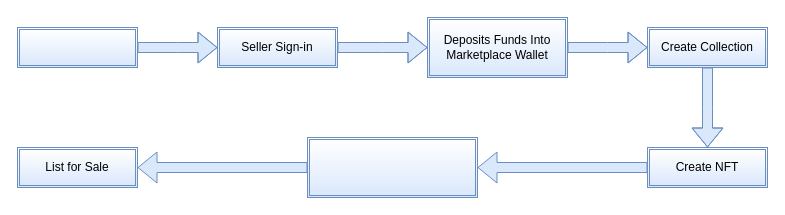
The diagram is 785 pixels wide and 215 high, and some of its shapes have lost their labels. Each missing label, with the centre of its shape:
Seller Sign-up: the point at 77,47
Wait for Admin to verify NFT: the point at 392,167
